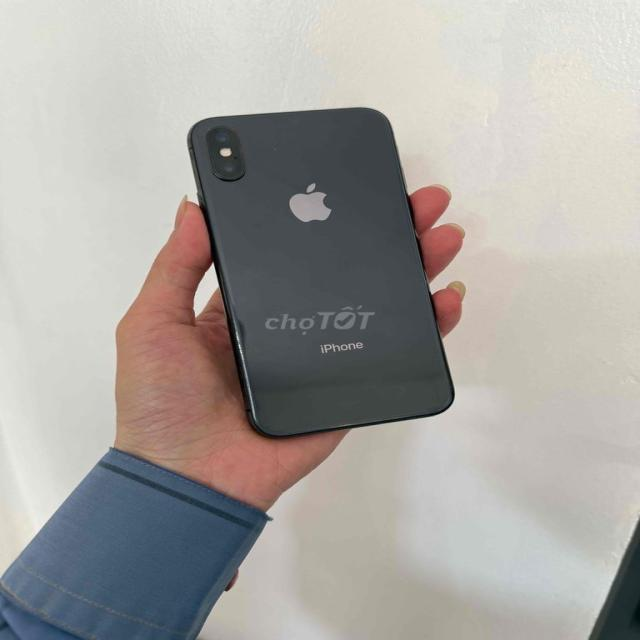gen_x_xs: (188, 108, 452, 437)
